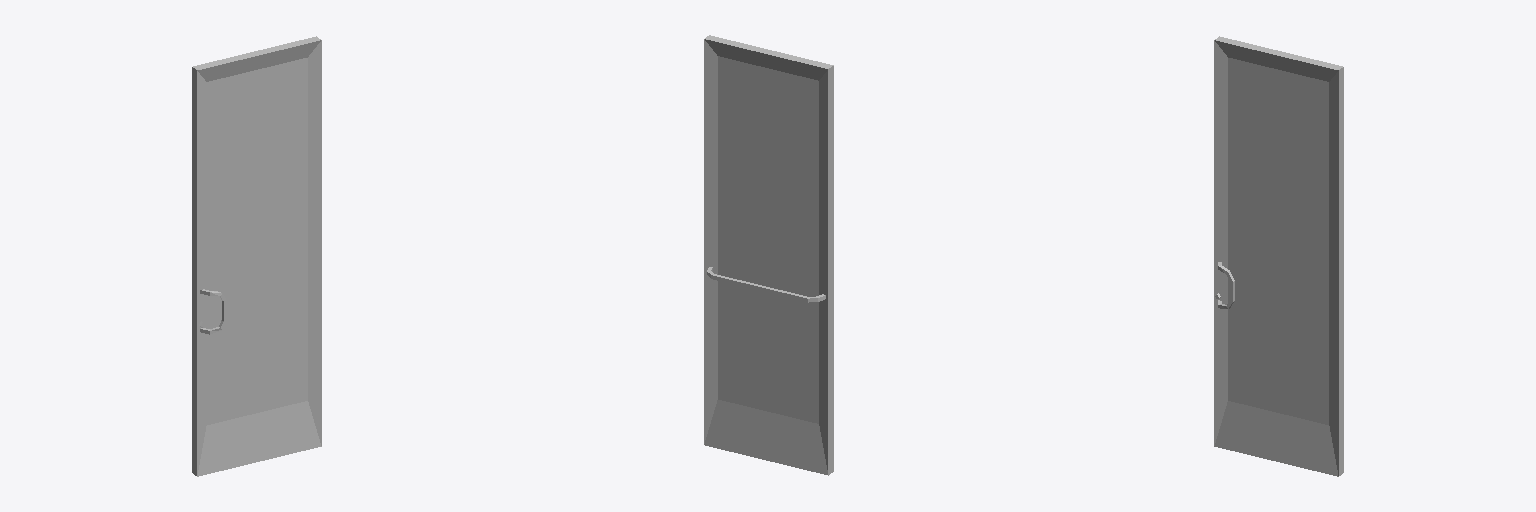
The model's file is Building_Door_Right_LOD2.obj.
3 views of the same model, side by side, from view 1: azimuth 30°, elevation 25°; view 2: azimuth 150°, elevation 25°; view 3: azimuth 330°, elevation 25° (orthographic).
Parts seen in each view (by area): view 1: Building_Door_Right_LOD2 Building_Door_Right; view 2: Building_Door_Right_LOD2 Building_Door_Right; view 3: Building_Door_Right_LOD2 Building_Door_Right.
Part boxes in pixels (x1,y1,x2,y2): Building_Door_Right_LOD2 Building_Door_Right: (192,36,321,476); Building_Door_Right_LOD2 Building_Door_Right: (704,35,833,475); Building_Door_Right_LOD2 Building_Door_Right: (1214,36,1343,476).
Size of the model in its own units: 79.94 by 250 by 20.26.